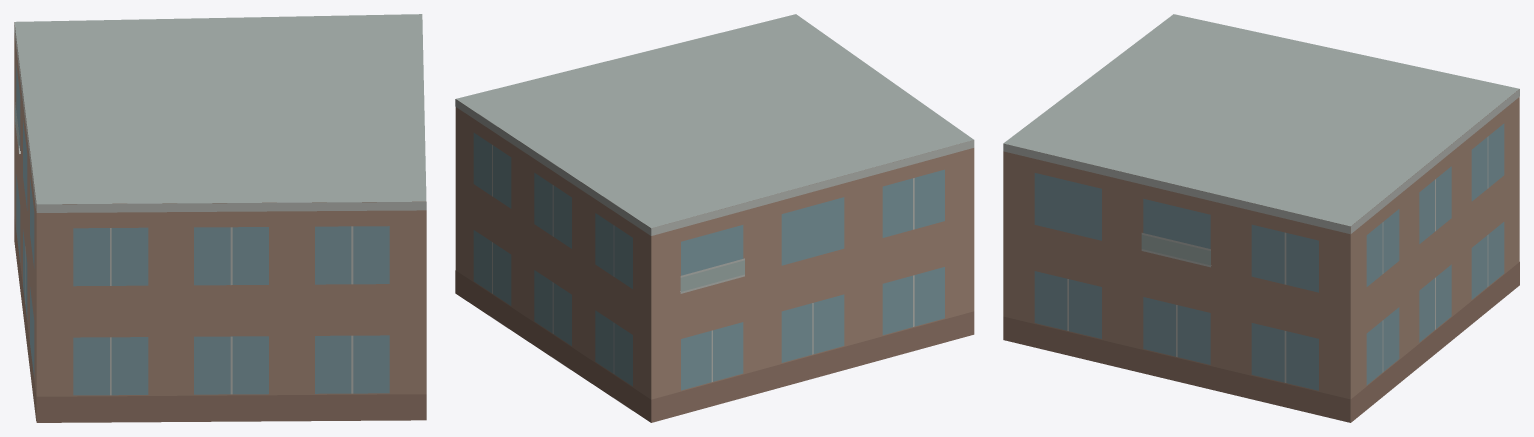
File: survey-upis-32835875.glb
3 renders of one model, left to right at view 1: azimuth 30°, elevation 25°; view 2: azimuth 150°, elevation 25°; view 3: azimuth 270°, elevation 25°, orthographic. The views are drawn at different scales.
Visible parts, largest first — view 1: survey-upis-32835875.tmp; view 2: survey-upis-32835875.tmp; view 3: survey-upis-32835875.tmp.
Part boxes in pixels (x1=…): survey-upis-32835875.tmp: x1=14, y1=14, x2=426, y2=422; survey-upis-32835875.tmp: x1=455, y1=14, x2=974, y2=422; survey-upis-32835875.tmp: x1=1003, y1=14, x2=1519, y2=422.
Bounding box in the file's own units: 14.15 × 6.1 × 14.54.
